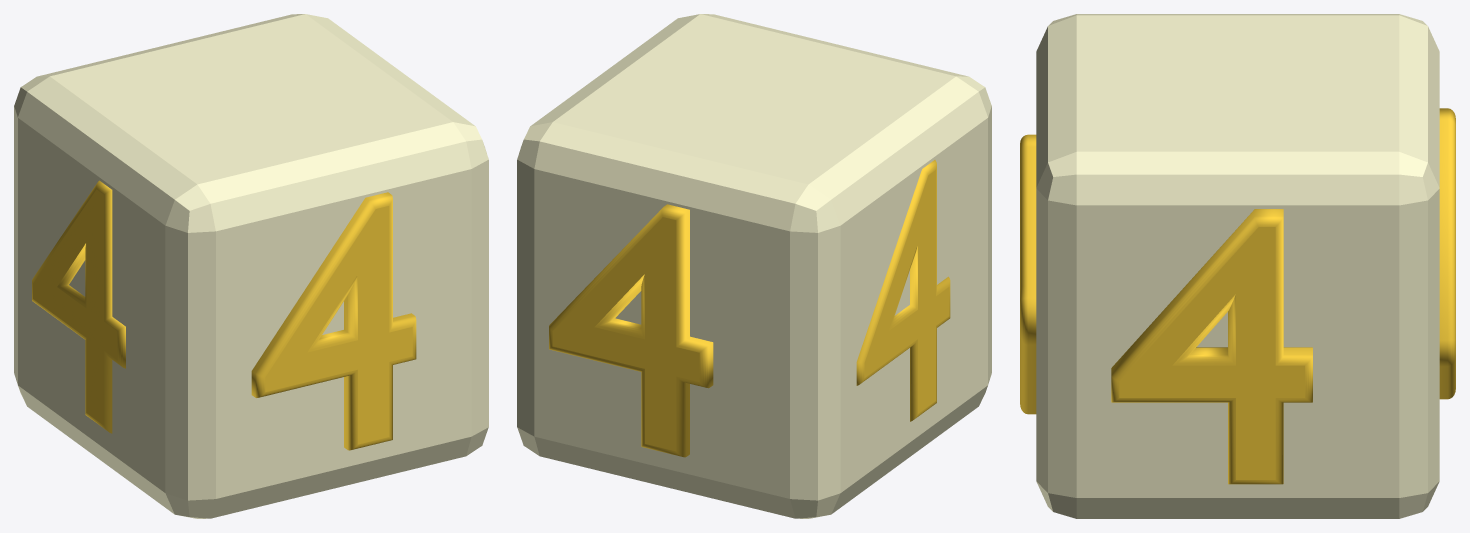
The picture shows the model from 3 angles, left to right: view 1: azimuth 30°, elevation 25°; view 2: azimuth 150°, elevation 25°; view 3: azimuth 270°, elevation 25°; orthographic projection. The views are drawn at different scales.
Parts seen in each view (by area): view 1: 4; view 2: 4; view 3: 4.
Boxes of the visible parts, x1,y1,x2,y2 form: 4: (14, 14, 488, 518); 4: (517, 14, 991, 518); 4: (1020, 14, 1455, 518).
Bounding box in the file's own units: 216 × 200 × 216.
